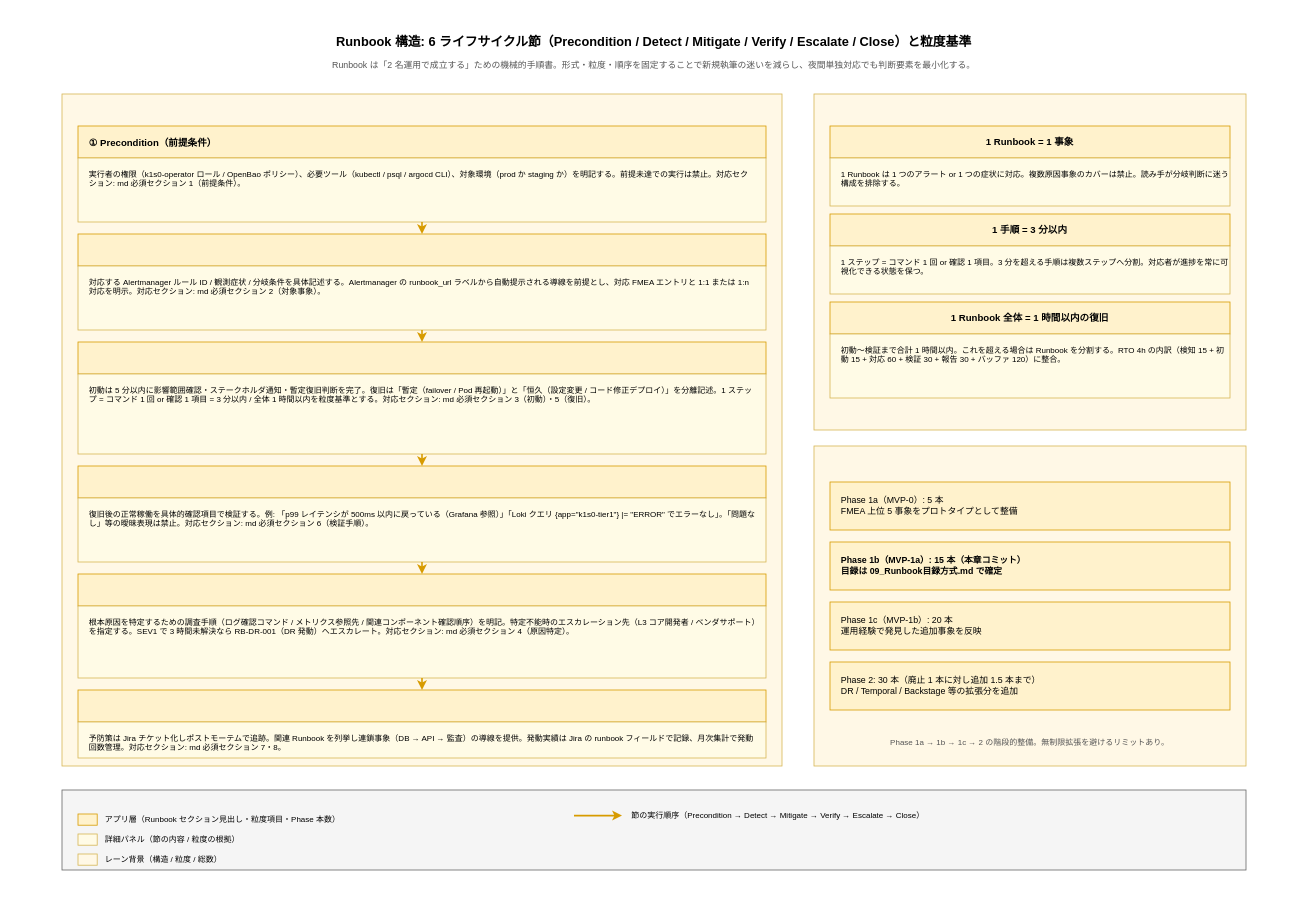
The diagram is 1307 pixels wide and 907 high, and some of its shapes have lost their labels. Here are the shapes that lost their labels. From the top down, the box of each, then its label:
(77, 233, 766, 266): ② Detect（対象事象の特定）
(813, 93, 1246, 430): 粒度基準（DS-OPS-RB-003）
(77, 341, 766, 374): ③ Mitigate（初動 5 分 + 復旧手順 1 時間以内）
(61, 93, 782, 766): Runbook 6 ライフサイクル節（実行順に並ぶ）
(77, 465, 766, 498): ④ Verify（復旧検証）
(77, 573, 766, 606): ⑤ Escalate（原因特定とエスカレーション）
(813, 445, 1246, 766): 総数計画（NFR-A-REC-002）
(77, 689, 766, 722): ⑥ Close（予防策 + 関連 Runbook + 記録）
(61, 789, 1246, 870): 凡例
